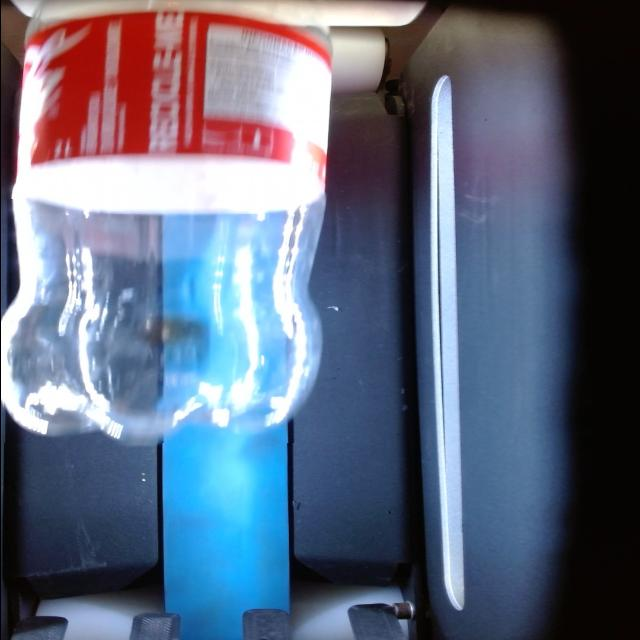bottom: (3, 200, 322, 443)
label: (17, 11, 329, 214)
